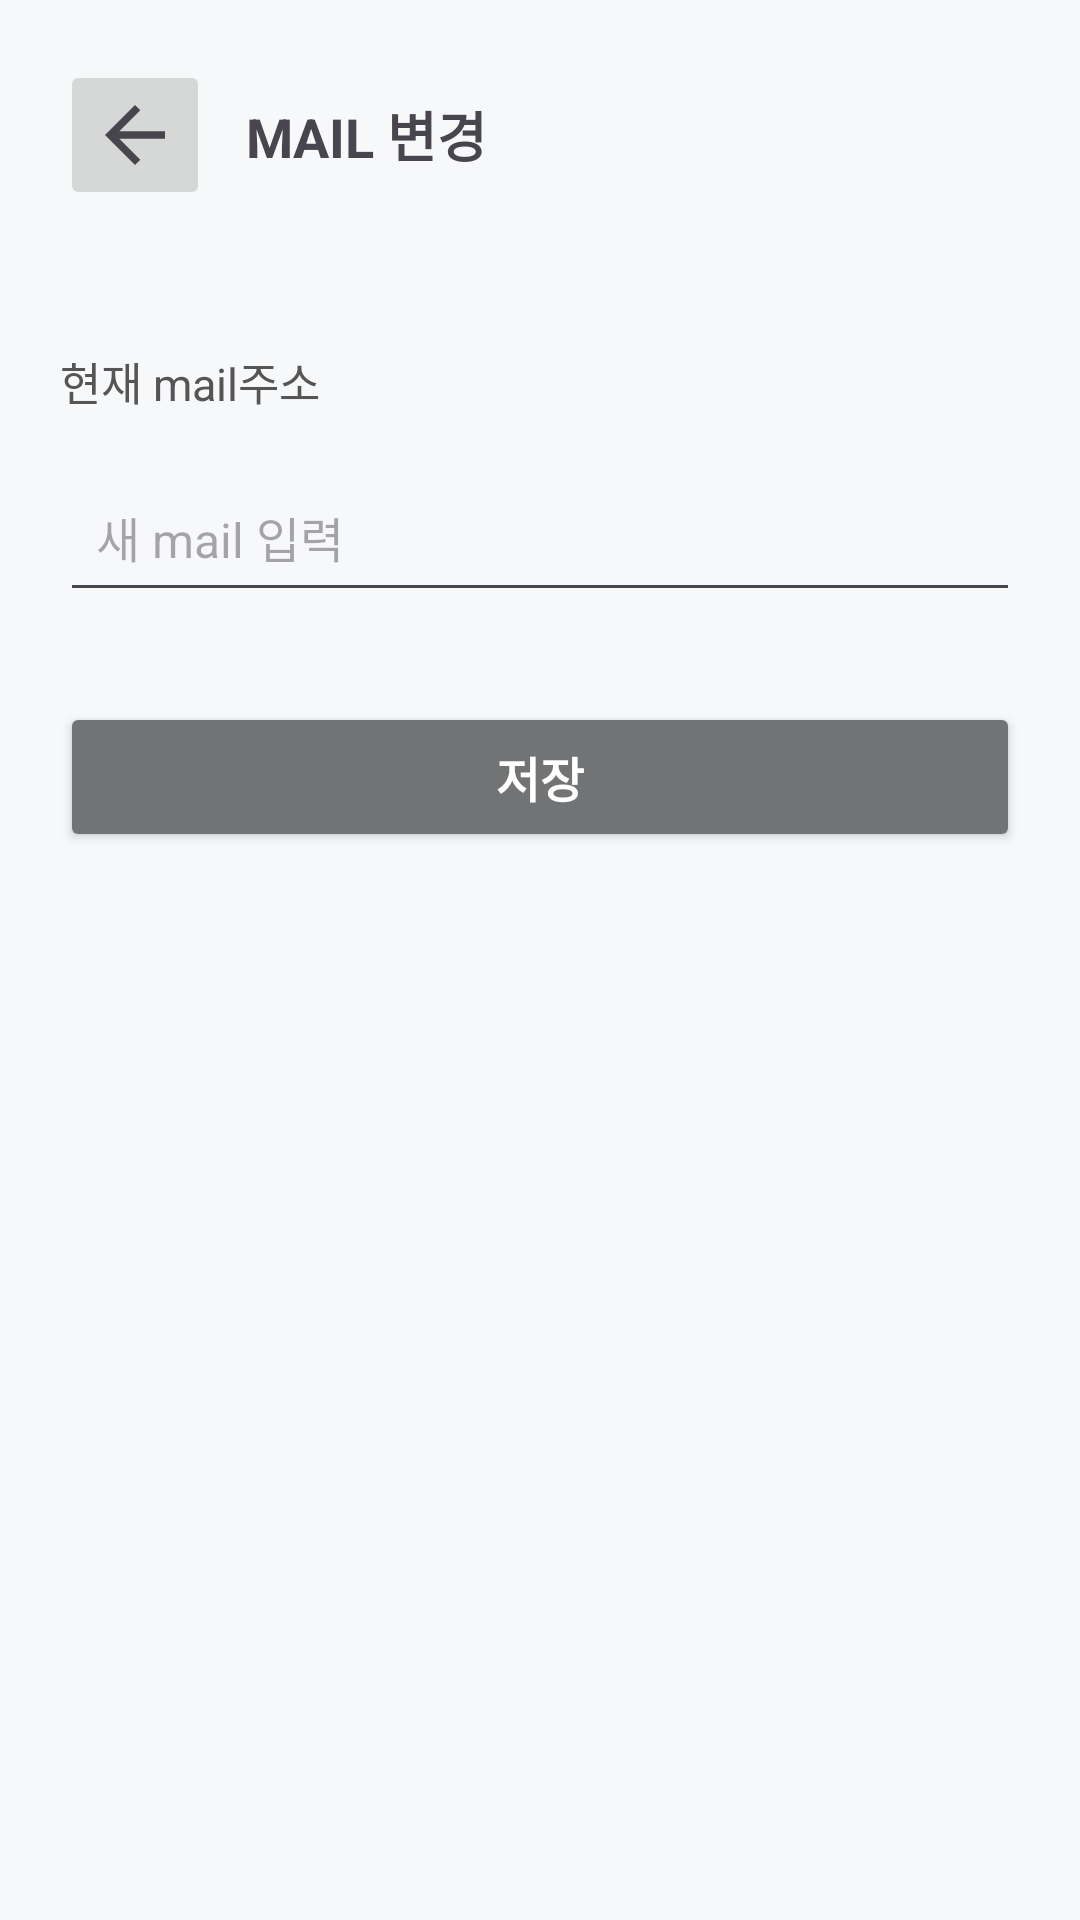

Icon click points for this 1080x1920 phone screenshot, format [x,y]:
Back: [135,135]
